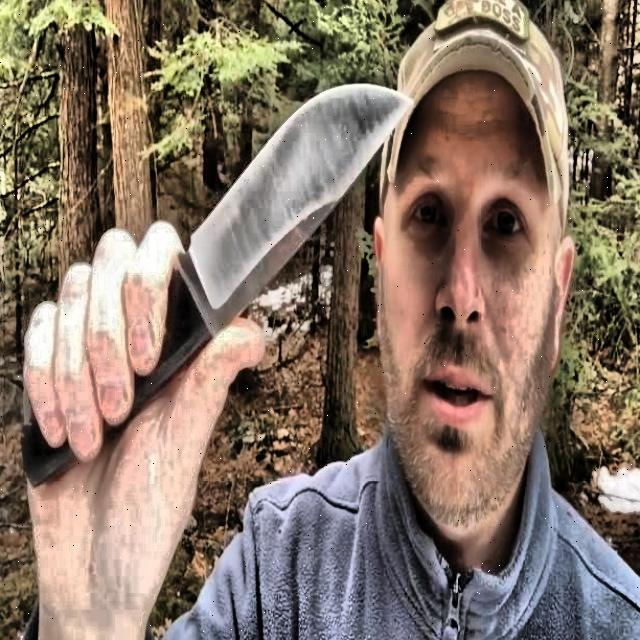knife: (22, 85, 411, 488)
